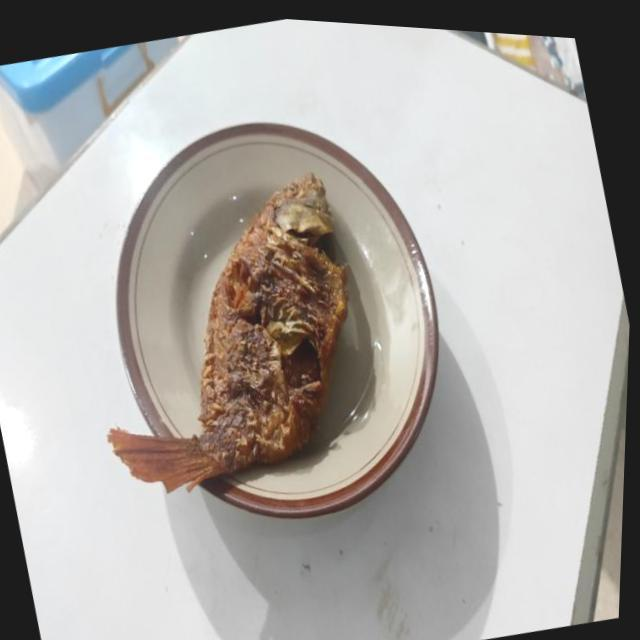ikan_mujair: (107, 173, 348, 492)
